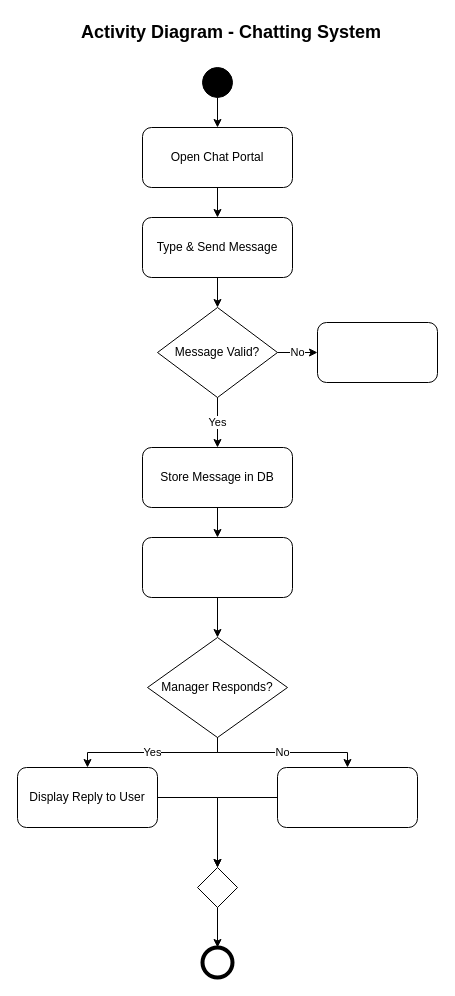
Image size: 455x996. Some labels were removed from this diagram. Here are the shapes that lost their labels. From the top down, the centre of each, then its label:
the point at 377,352: Show Error Message
the point at 217,567: Notify Manager / Support Staff
the point at 347,797: Keep Message in Queue (Offline)
